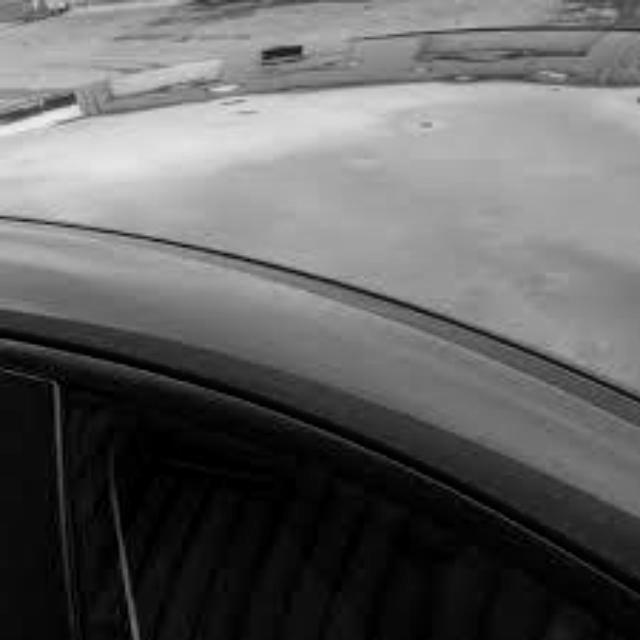roof-dent: (149, 49, 498, 324), (504, 29, 637, 327)
